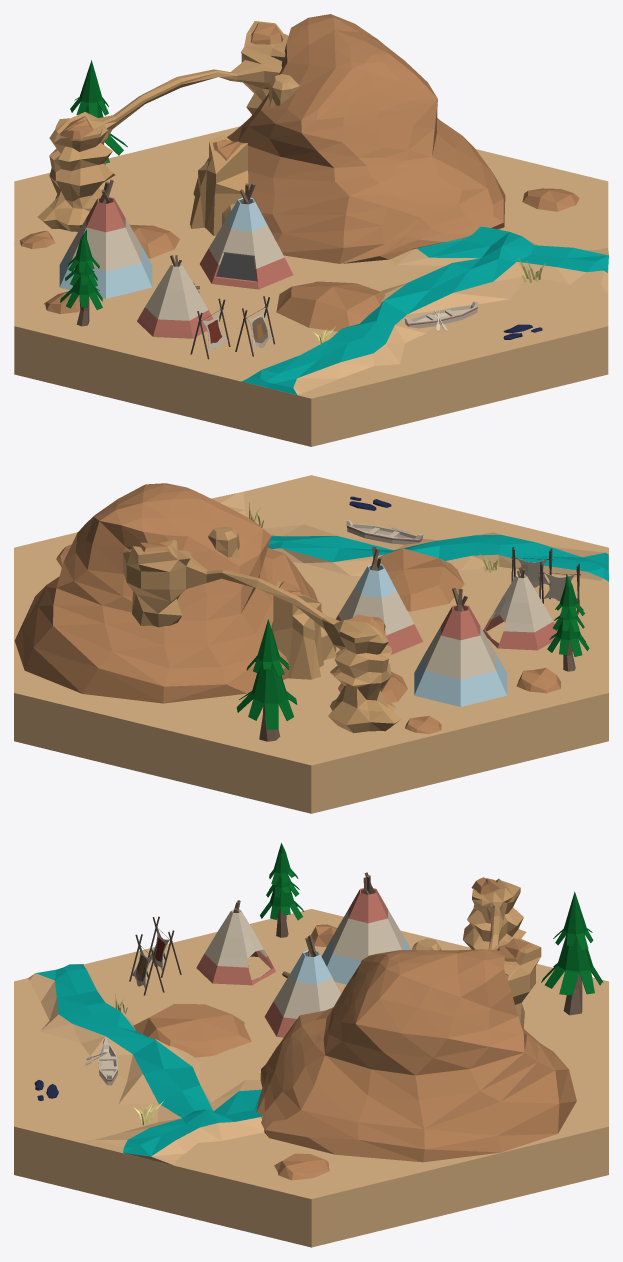
The model's file is Tile_2.fbx.
The picture shows the model from 3 angles, top to bottom: view 1: azimuth 30°, elevation 25°; view 2: azimuth 150°, elevation 25°; view 3: azimuth 270°, elevation 25°; orthographic projection.
Parts seen in each view (by area): view 1: Tile_2_Base, Tile_2, Tile_2_Boat; view 2: Tile_2_Base, Tile_2, Tile_2_Boat; view 3: Tile_2_Base, Tile_2, Tile_2_Boat.
Part boxes in pixels (x1,y1,x2,y2): Tile_2_Base: (14,14,608,446); Tile_2: (59,60,546,359); Tile_2_Boat: (404,301,478,328); Tile_2_Base: (14,475,608,813); Tile_2: (236,502,589,741); Tile_2_Boat: (346,519,422,544); Tile_2_Base: (14,877,608,1247); Tile_2: (86,843,603,1125); Tile_2_Boat: (98,1038,117,1085).
Bounding box in the file's own units: 2318 × 2007 × 729.
